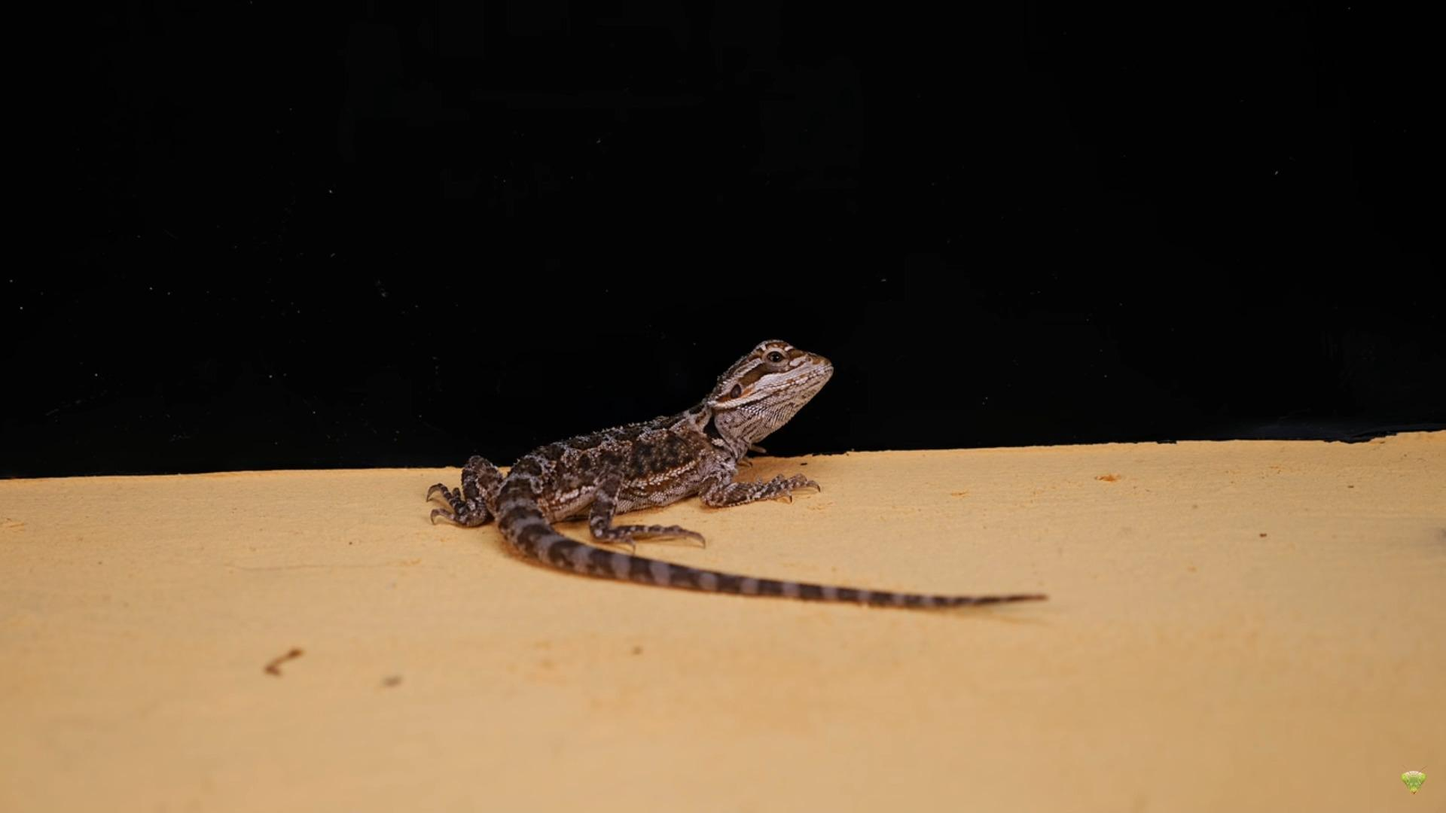lizard: (416, 330, 1053, 604)
